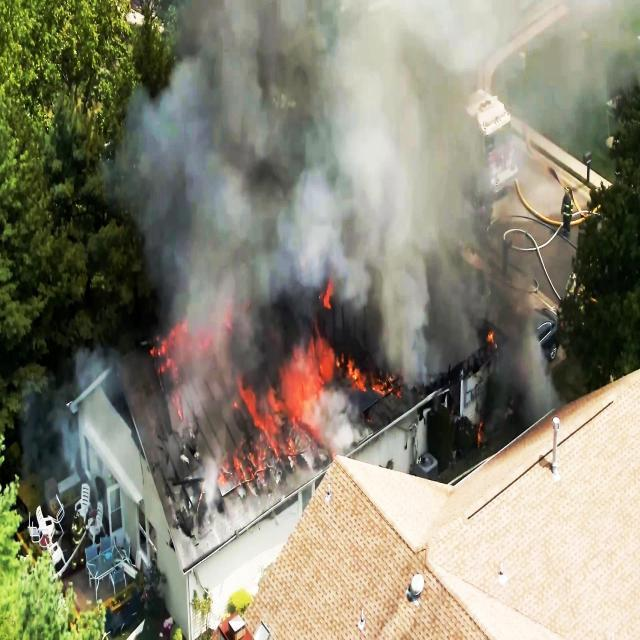Fire: (148, 330, 340, 492), (346, 353, 409, 407), (474, 418, 484, 450), (488, 332, 502, 348)
Smoke: (122, 0, 619, 260), (153, 265, 534, 332), (50, 359, 117, 472), (504, 336, 555, 414)
